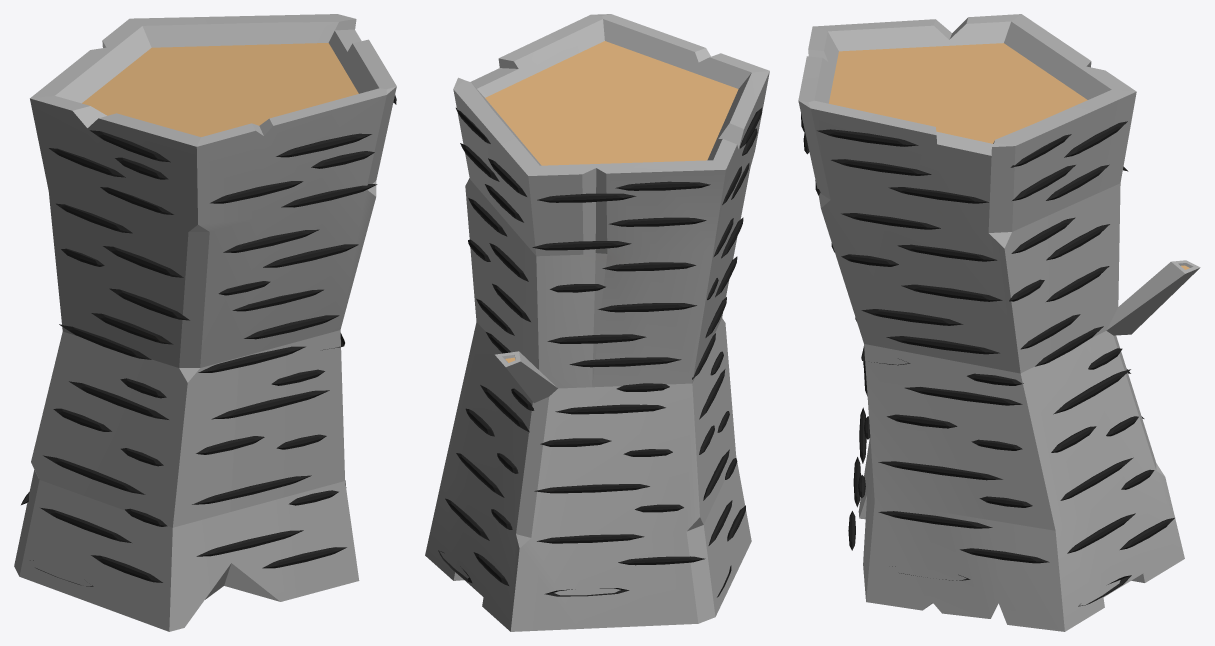
File: tronco2.fbx
3 renders of one model, left to right at view 1: azimuth 30°, elevation 25°; view 2: azimuth 150°, elevation 25°; view 3: azimuth 270°, elevation 25°, orthographic. The views are drawn at different scales.
Parts seen in each view (by area): view 1: Cube.074; view 2: Cube.074; view 3: Cube.074.
Boxes of the visible parts, <box> form: Cube.074: <box>14,14,396,631</box>; Cube.074: <box>425,14,769,631</box>; Cube.074: <box>798,14,1200,631</box>.
Bounding box in the file's own units: 130 × 206 × 150.
1 material, 1 textured.
